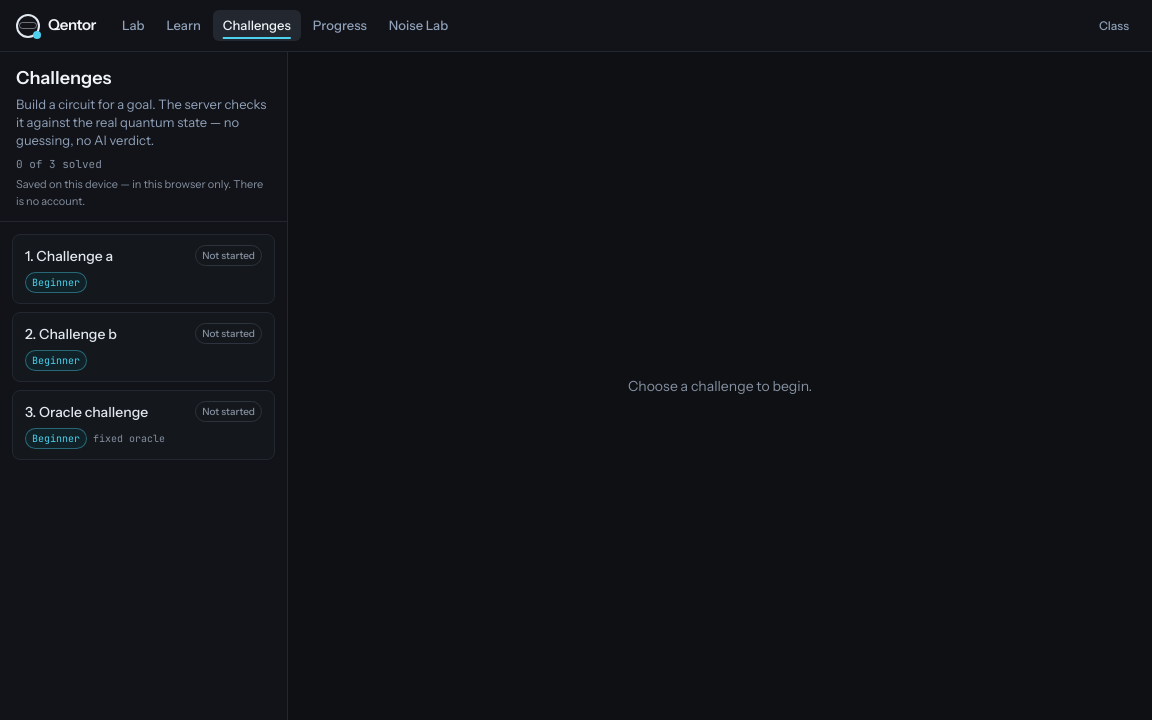
Scenario: the brief › links to the related lesson by its title, and opens it
Expected: the navigation bar named "Challenges" is shown, [12,234,275,460]
Click the button "1. Challenge a Not started Beginner" at {"x": 75, "y": 256}, box [12,234,275,304]
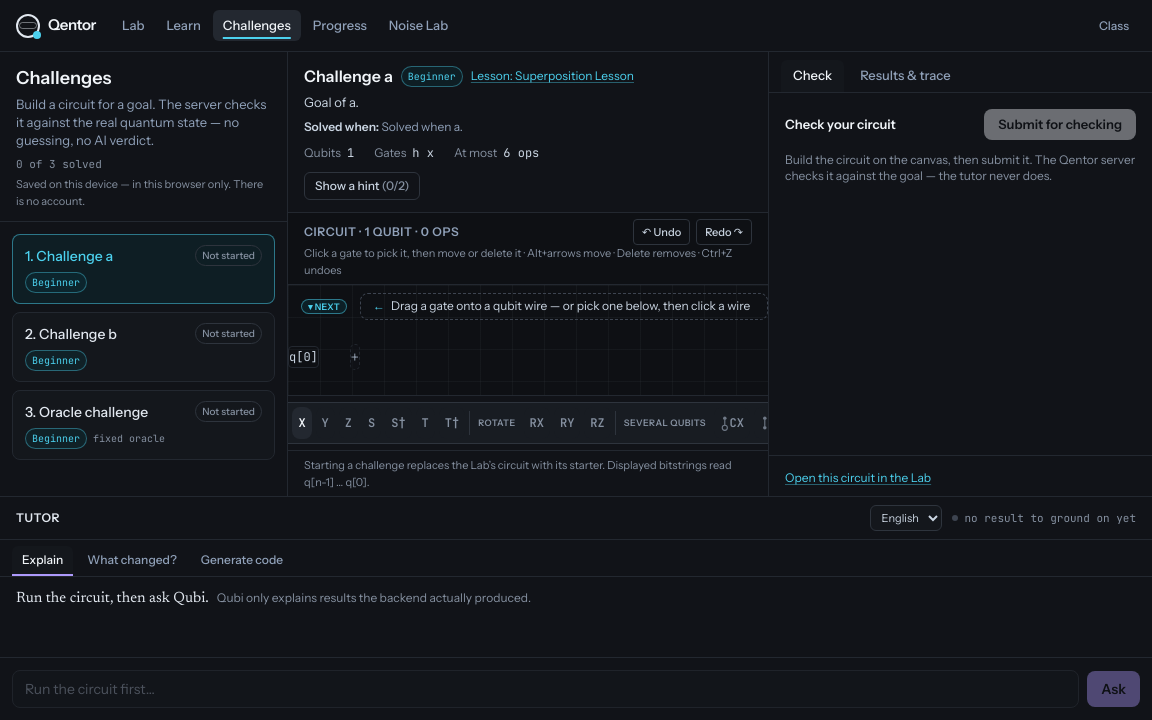
Expected: the heading "Challenge a" is shown, [304,64,393,88]
Click the button "Lesson: Superposition Lesson" at {"x": 552, "y": 76}, box [471,67,634,85]
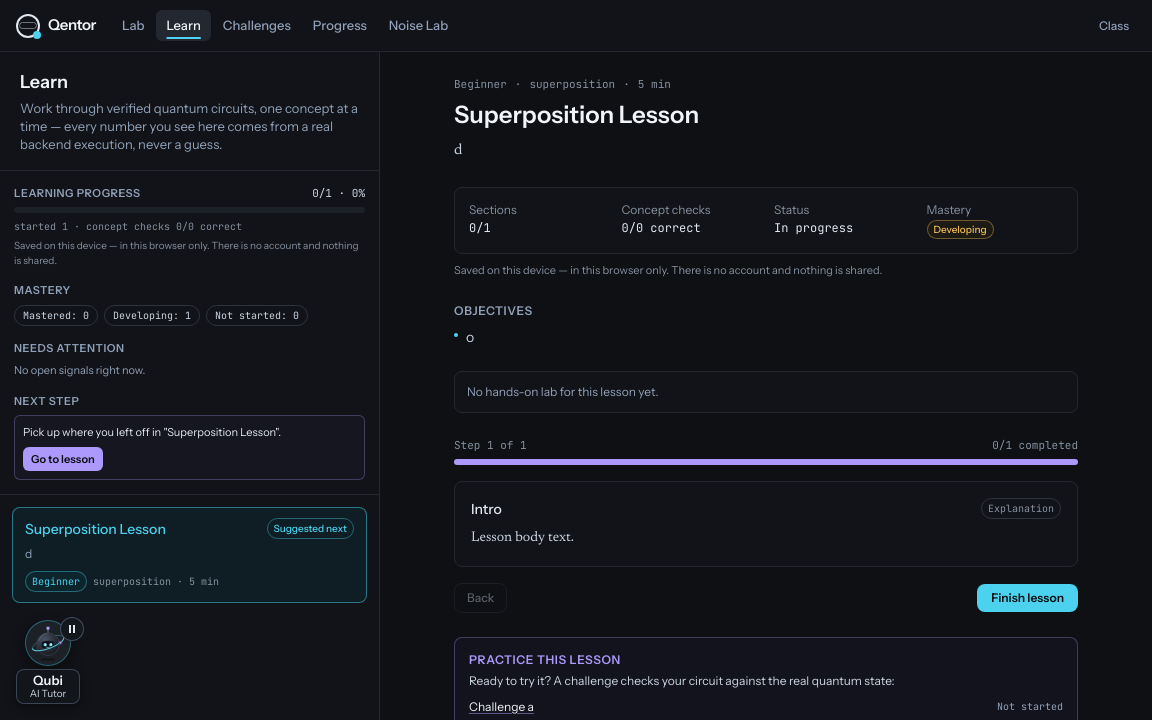
Expected: the text "Lesson body text." is shown, [471,531,574,545]
